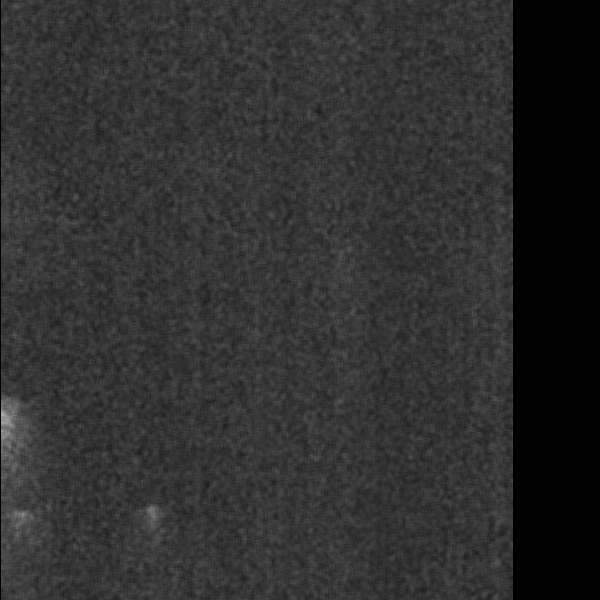spark: (143, 500, 162, 566), (3, 506, 35, 536)
